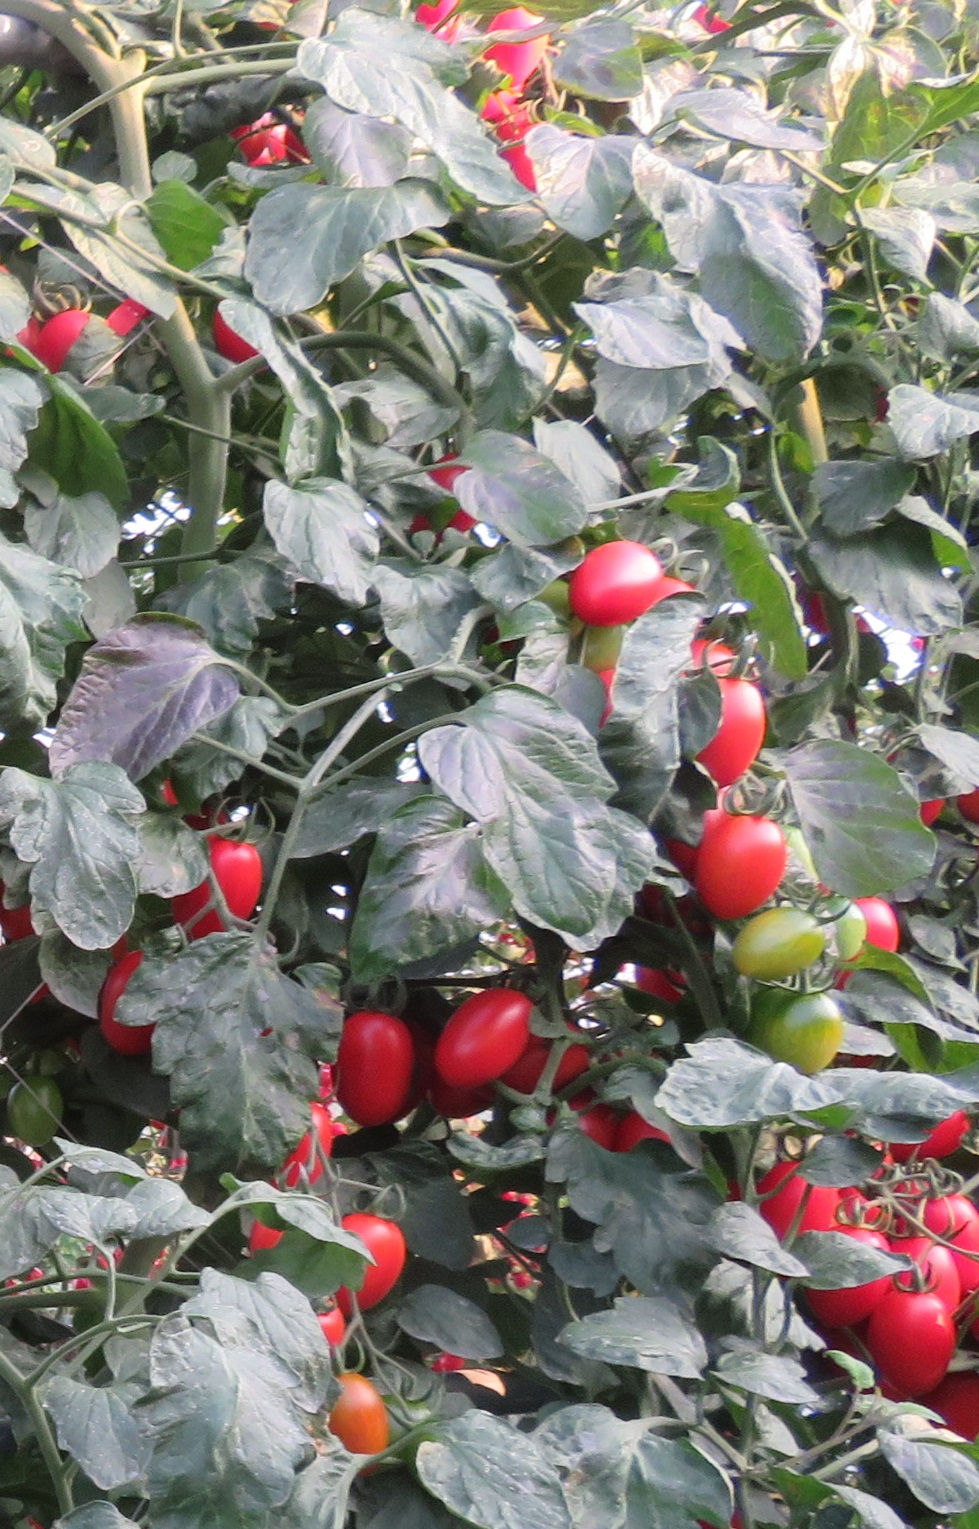green: (764, 980, 846, 1078), (727, 908, 832, 985), (6, 1077, 65, 1150), (817, 897, 865, 961)
red: (699, 797, 799, 913), (865, 1278, 959, 1396), (327, 1009, 414, 1130), (434, 991, 540, 1085), (171, 837, 264, 942), (565, 537, 669, 626), (808, 1228, 891, 1323), (697, 674, 767, 783), (94, 948, 165, 1054), (759, 1155, 839, 1245), (340, 1213, 406, 1316), (484, 4, 552, 89), (921, 1196, 979, 1291), (35, 306, 103, 383), (329, 1370, 388, 1455), (210, 298, 268, 374)
